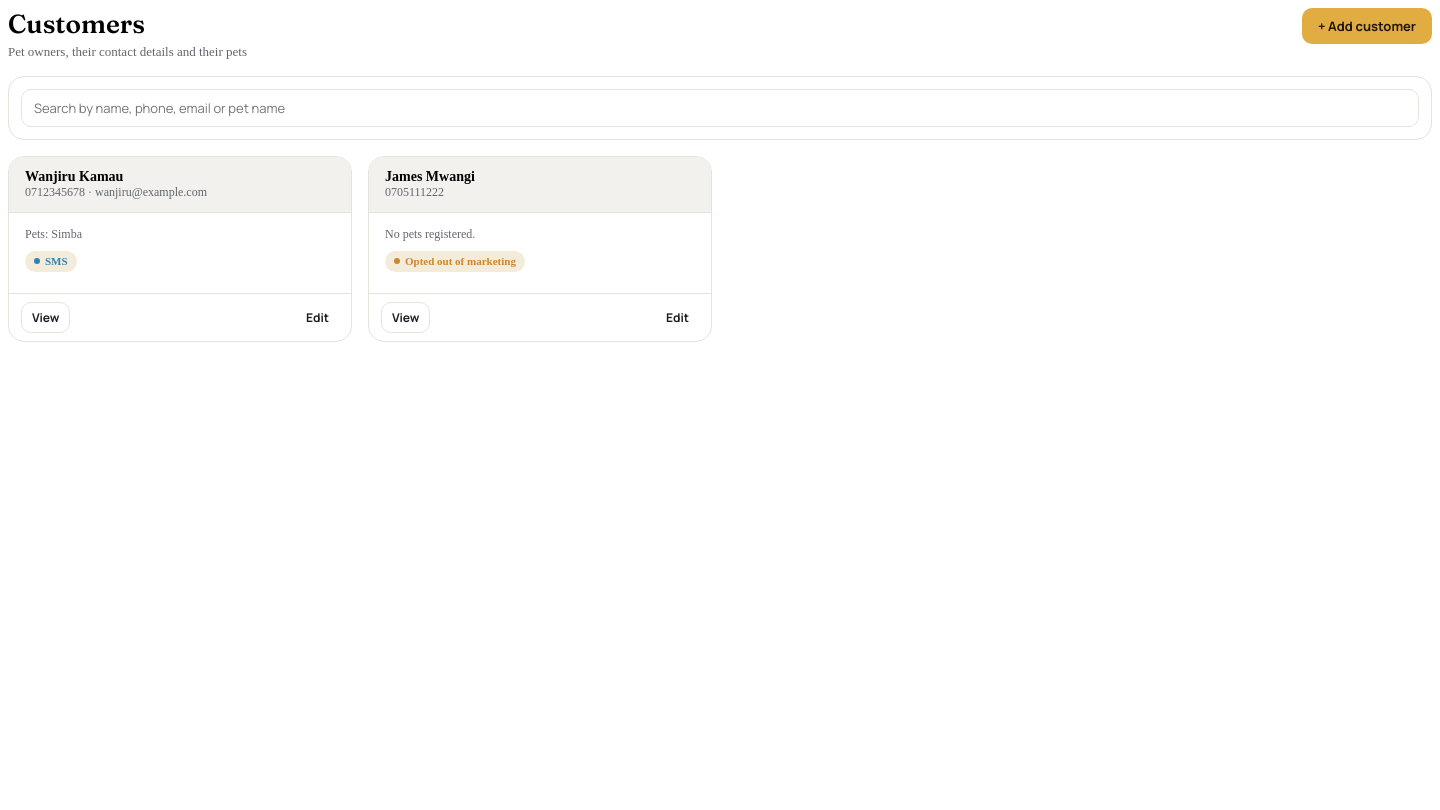
it: CustomersPage › saves a new customer and writes contact details to the profile table
This screenshot has width=1440, height=810.
Expected: the text "Wanjiru Kamau" is shown, [25,169,123,184]
Click the button "+ Add customer".
click(1367, 26)  # box [1302,8,1432,44]
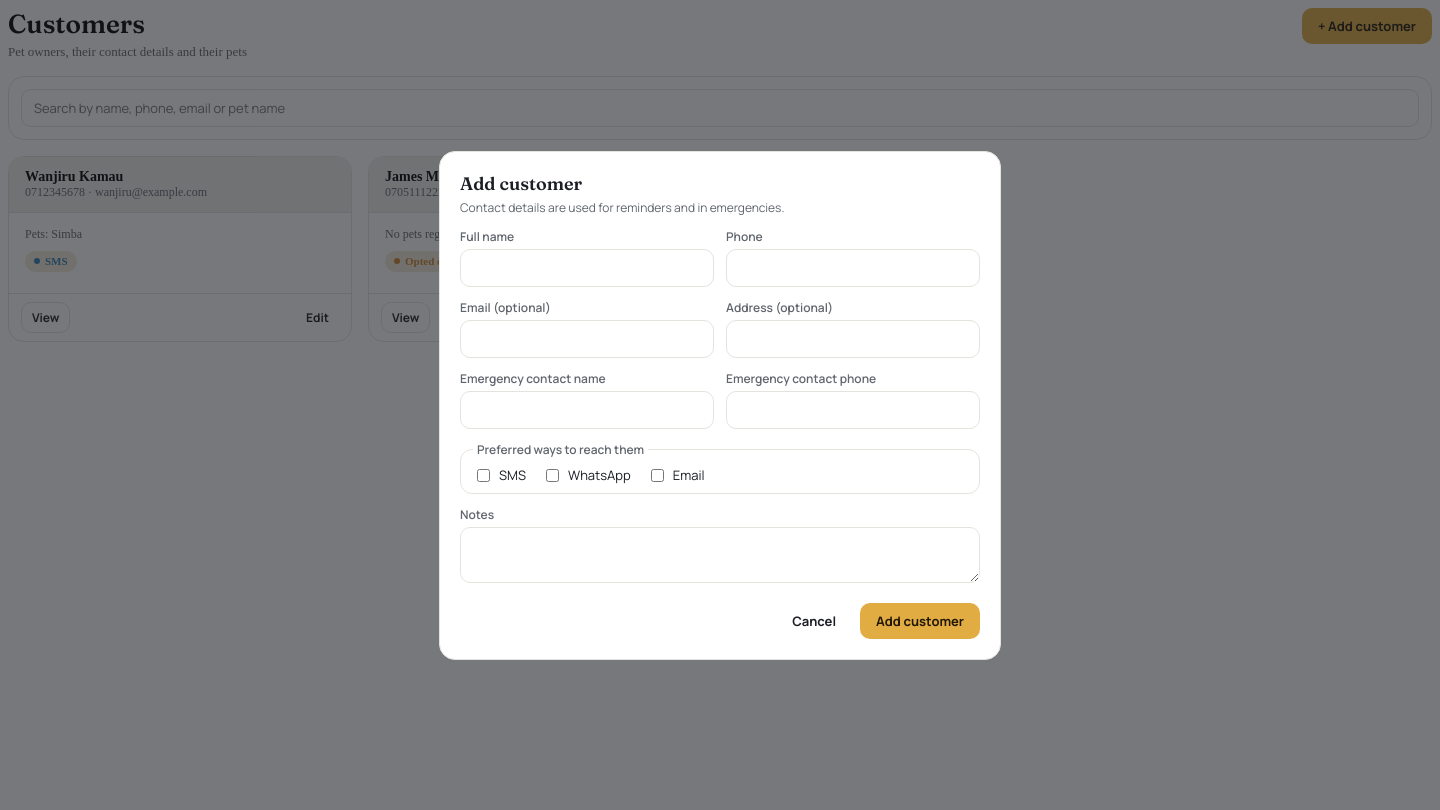
Type "Zawadi Otieno" into the field labelled "Full name".
click(587, 268); type("Zawadi Otieno")  # box [460,248,714,286]
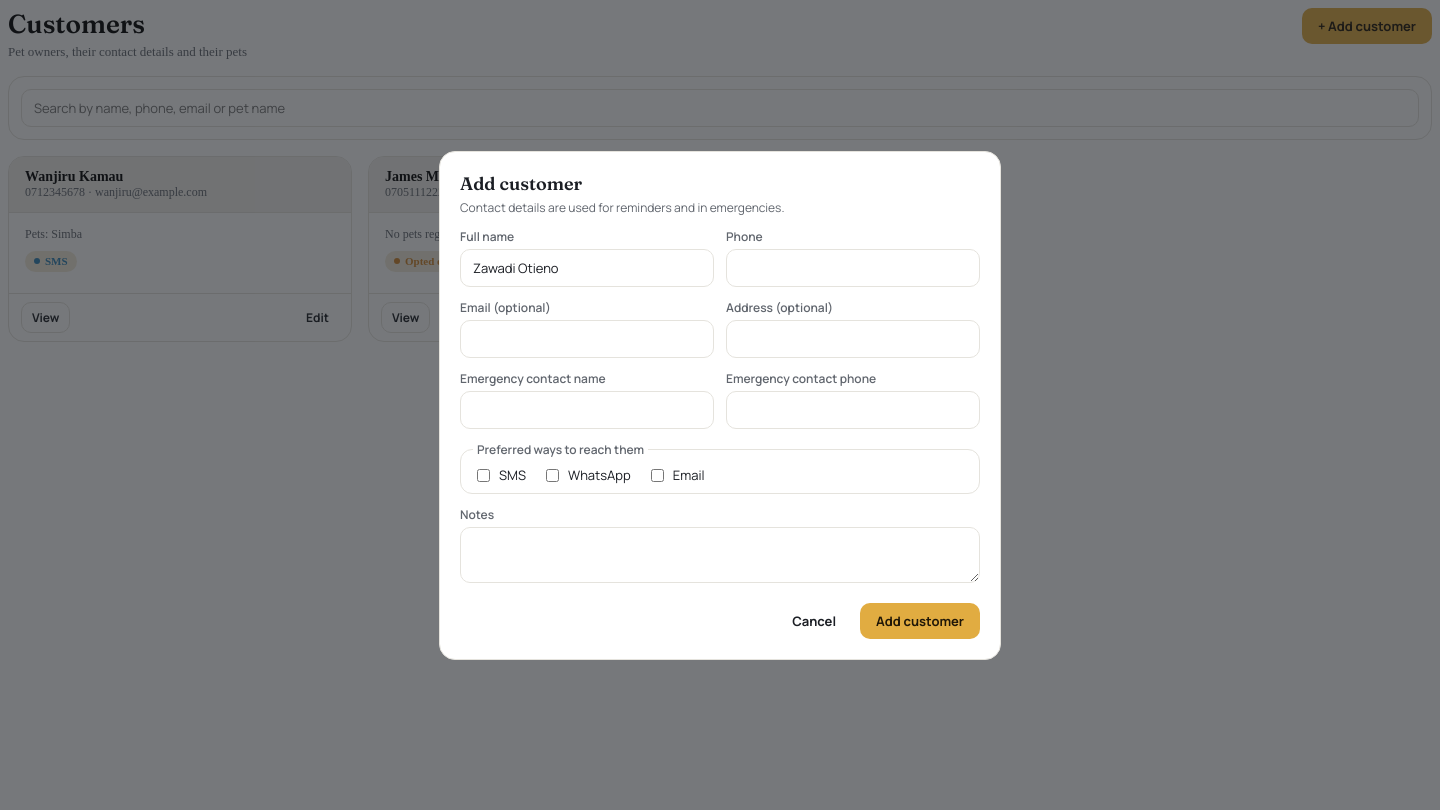
Type "Zawadi@Example.com" into the field labelled "Email (optional)".
click(587, 338); type("Zawadi@Example.com")  # box [460,320,714,358]
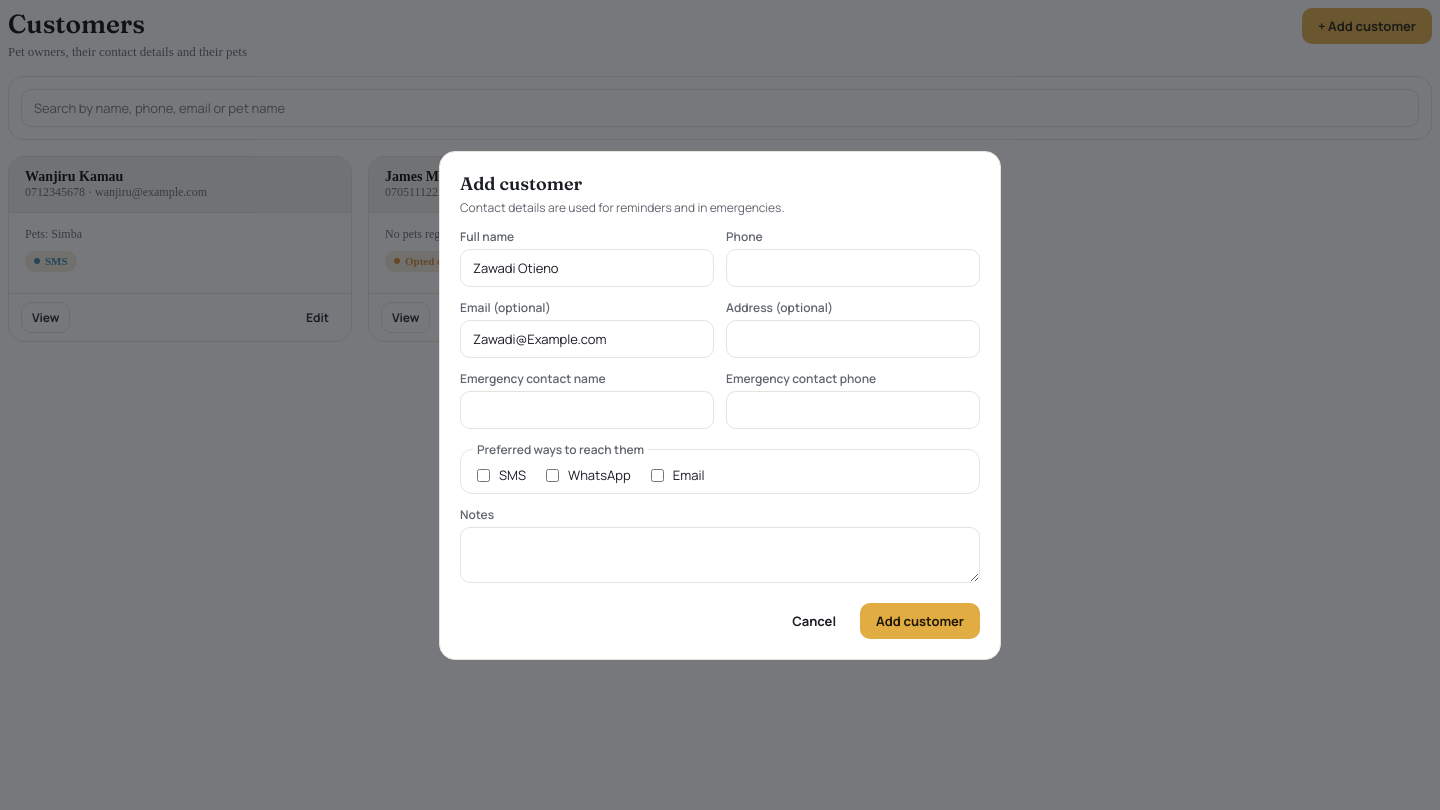
Click the button "Add customer".
click(920, 620)  # box [860,602,980,638]
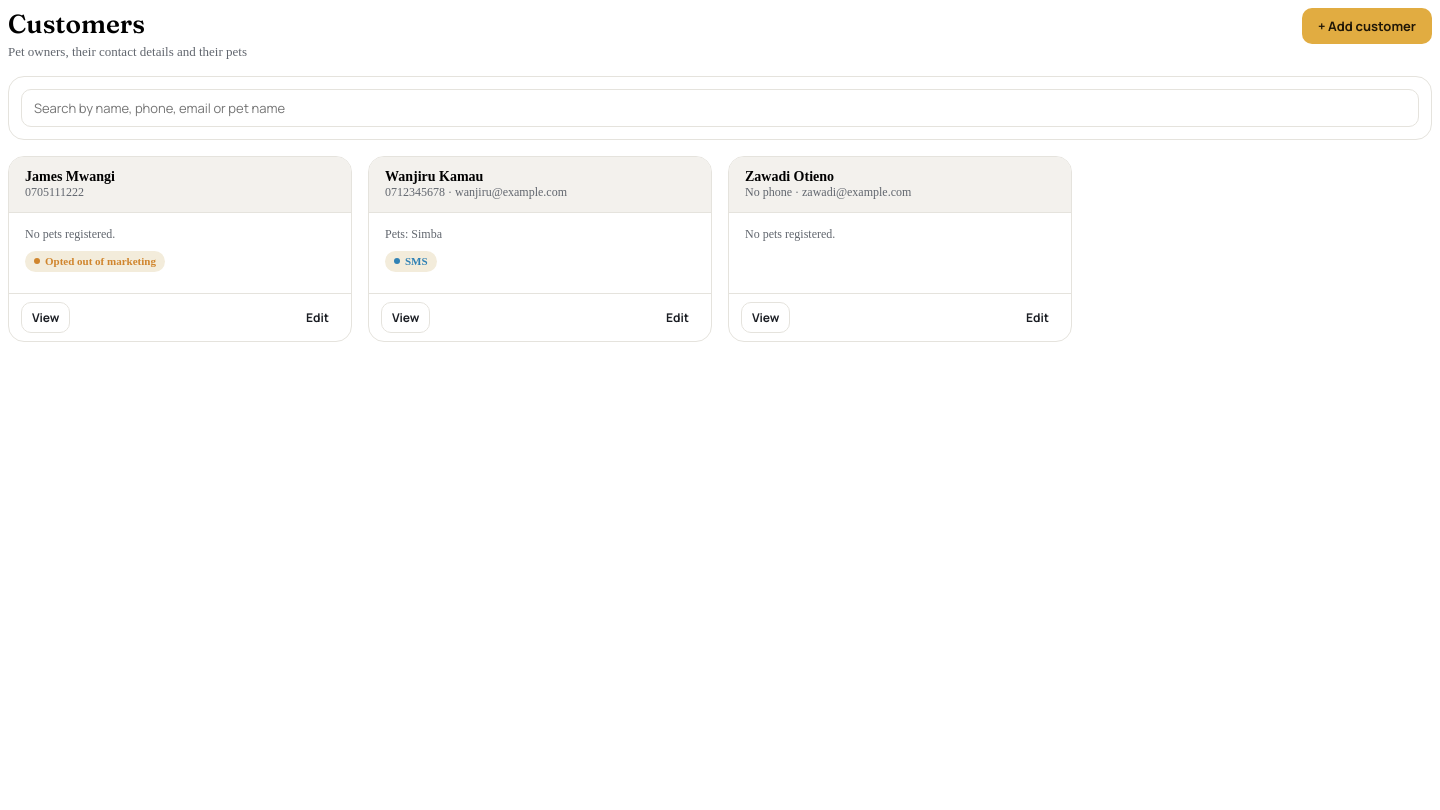
Now the text "Zawadi Otieno" is shown, box [745,169,834,184]
